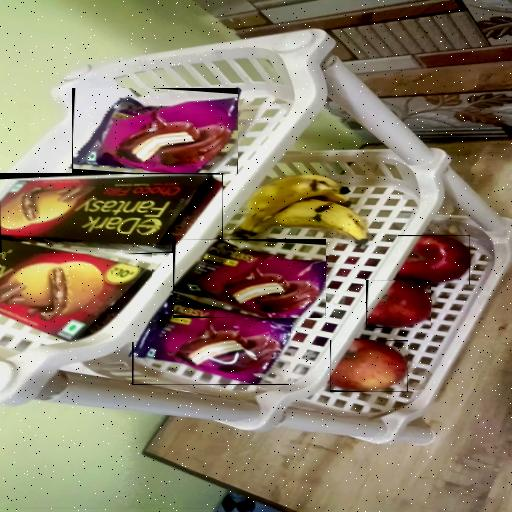Apple: (330, 340, 408, 392), (398, 235, 470, 285), (366, 280, 431, 328)
Choco Fills: (0, 173, 223, 253), (0, 235, 152, 342)
Choco Pie: (132, 294, 291, 385), (72, 88, 238, 174), (173, 239, 326, 318)
